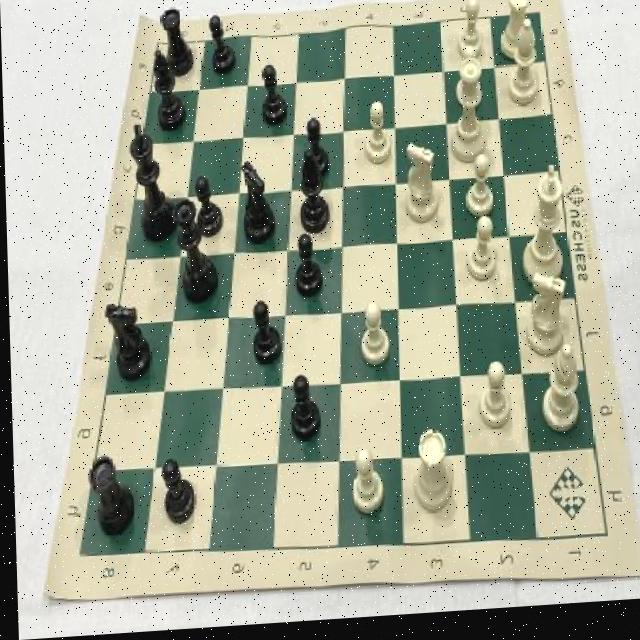bishop: (152, 53, 190, 137)
black-bishop: (127, 116, 175, 249)
black-king: (100, 299, 154, 381), (240, 154, 280, 245), (296, 161, 337, 244)
black-knight: (155, 452, 193, 526), (278, 372, 317, 441), (246, 296, 281, 372), (290, 237, 326, 310), (259, 66, 291, 130), (194, 178, 223, 243), (302, 120, 331, 179), (208, 20, 236, 79)
black-pawn: (168, 212, 216, 313)
black-queen: (85, 446, 133, 540), (162, 13, 198, 78)
black-rook: (540, 347, 586, 440), (500, 30, 543, 128)
white-bishop: (520, 175, 567, 293)
white-king: (523, 272, 571, 368), (402, 142, 443, 235)
white-knight: (458, 206, 499, 290), (349, 441, 391, 519), (453, 147, 490, 228), (350, 302, 389, 375), (473, 366, 508, 435), (451, 6, 487, 73), (363, 106, 394, 175), (453, 53, 480, 113)
white-pawn: (444, 68, 490, 153)
white-queen: (404, 431, 451, 526), (497, 0, 541, 88)
